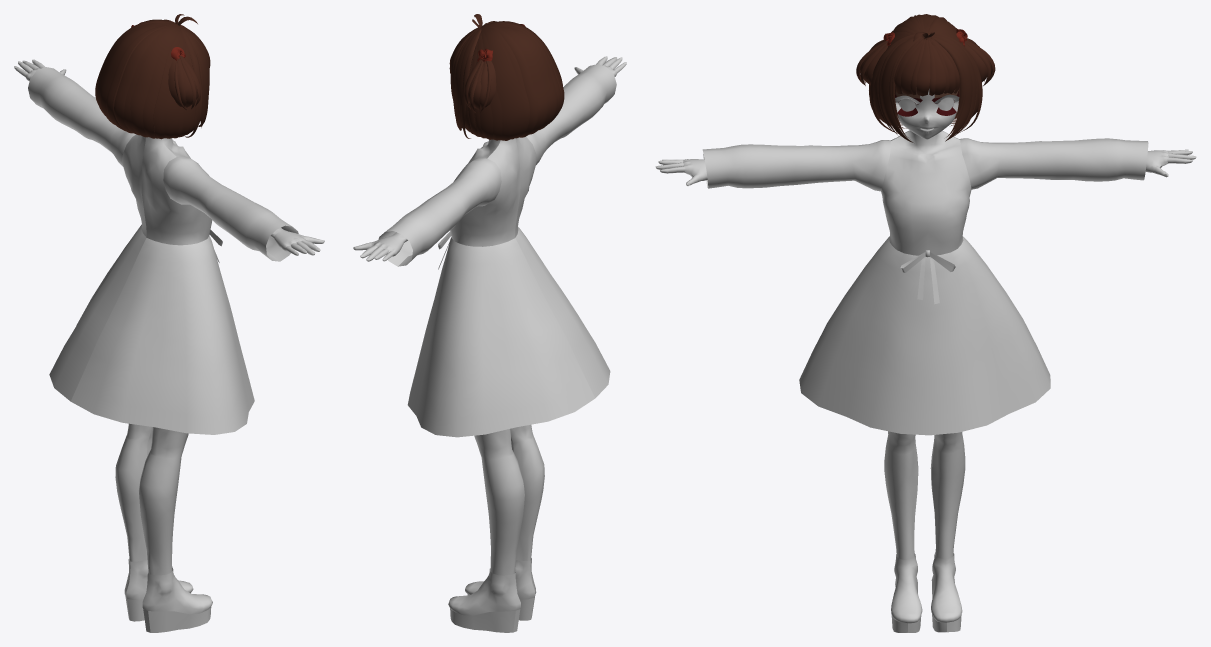
The model's file is vivi.obj.
The picture shows the model from 3 angles, left to right: view 1: azimuth 30°, elevation 25°; view 2: azimuth 150°, elevation 25°; view 3: azimuth 270°, elevation 25°; orthographic projection.
Parts seen in each view (by area): view 1: Body.baked_Body.baked.001, Hair001.baked_Hair001.baked.001; view 2: Body.baked_Body.baked.001, Hair001.baked_Hair001.baked.001; view 3: Body.baked_Body.baked.001, Hair001.baked_Hair001.baked.001, Face.baked_Face.baked.001.
Part boxes in pixels (left/top/right/bottom): Body.baked_Body.baked.001: left=14, top=59, right=324, bottom=632; Hair001.baked_Hair001.baked.001: left=95, top=14, right=210, bottom=139; Body.baked_Body.baked.001: left=353, top=56, right=626, bottom=632; Hair001.baked_Hair001.baked.001: left=449, top=14, right=564, bottom=140; Body.baked_Body.baked.001: left=655, top=130, right=1196, bottom=632; Hair001.baked_Hair001.baked.001: left=856, top=14, right=995, bottom=142; Face.baked_Face.baked.001: left=895, top=87, right=959, bottom=139.
Bounding box in the file's own units: 2.93 × 9.86 × 8.09.
